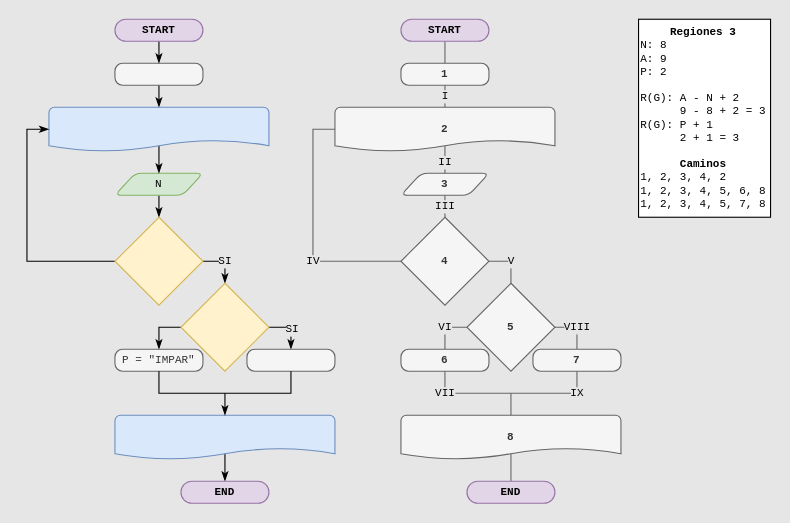
Some shapes in this 790 by 523 pixel diagram are drawn without their labels. Each missing label, with the centre of its shape:
"Ingrese un número natural": [158,128]
"N es ", P: [224,436]
N % 2 == 0: [224,326]
N > 0: [158,260]
P = "PAR": [290,359]
P =" ": [158,73]
